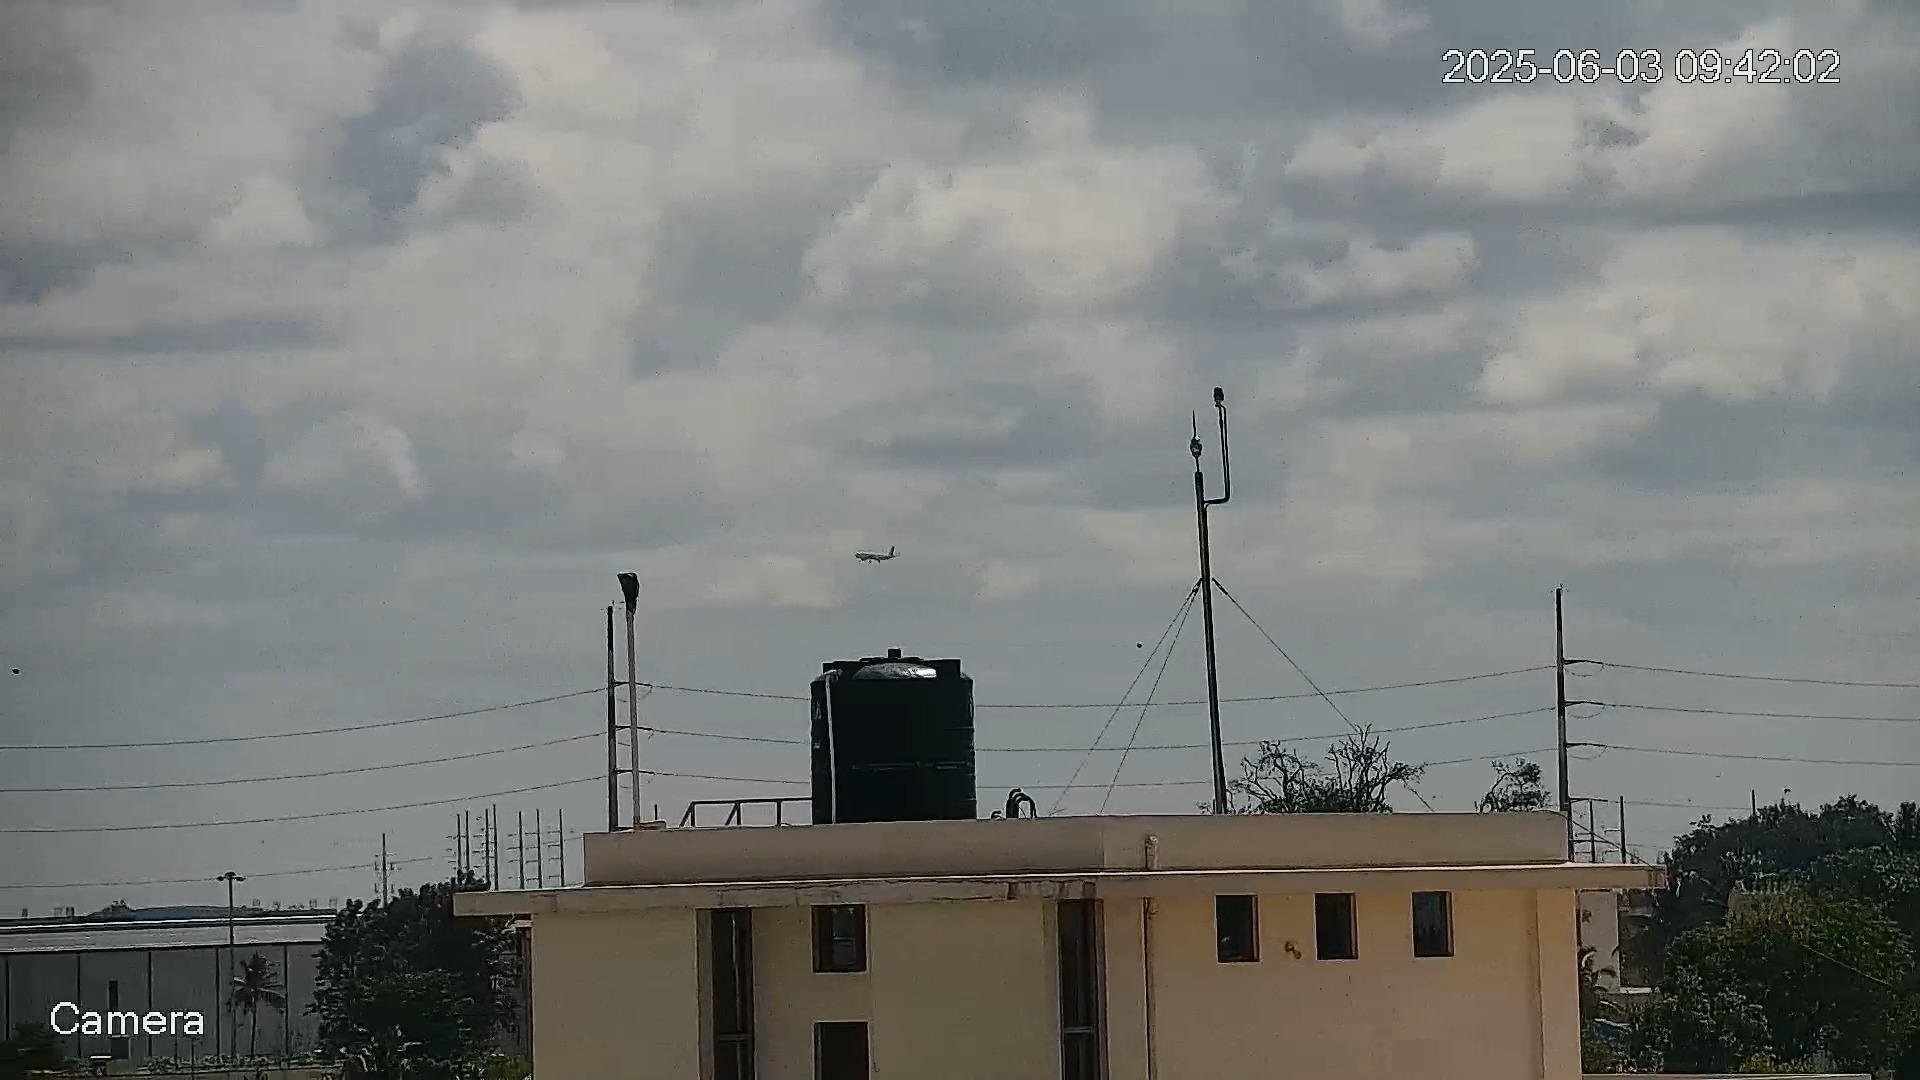Aircraft: (853, 546, 899, 564)
